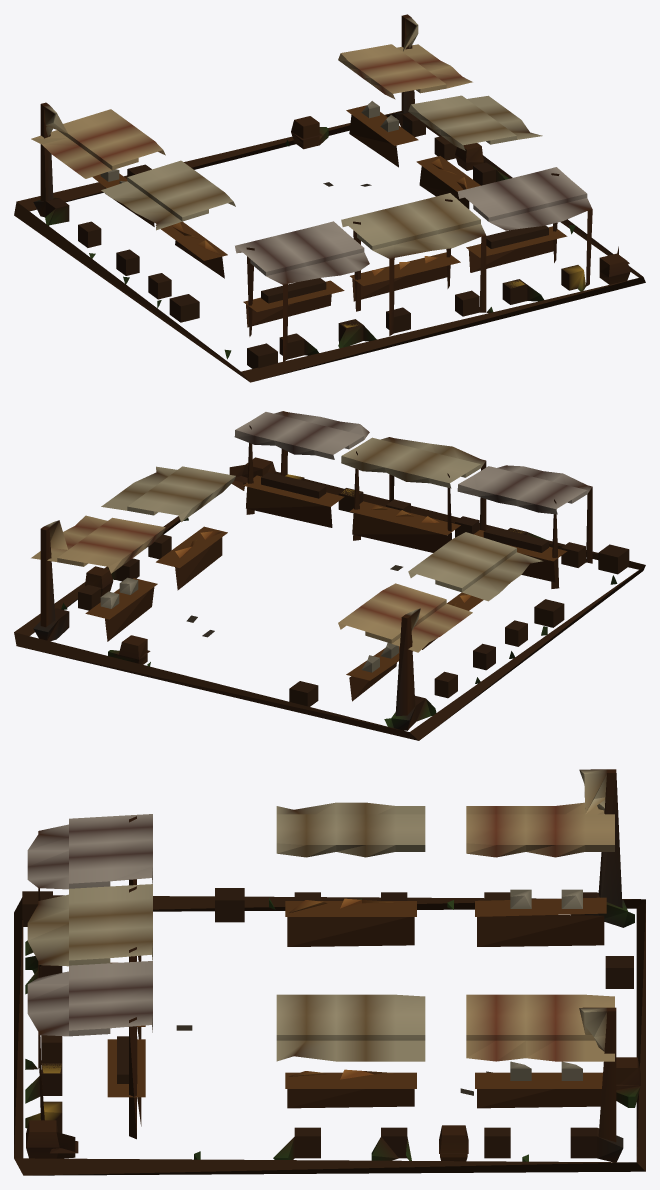
The model's file is Market.glb.
The picture shows the model from 3 angles, top to bottom: view 1: azimuth 30°, elevation 25°; view 2: azimuth 150°, elevation 25°; view 3: azimuth 270°, elevation 25°; orthographic projection. The views are drawn at different scales.
Parts seen in each view (by area): view 1: Market_P0_LOD1; view 2: Market_P0_LOD1; view 3: Market_P0_LOD1.
Boxes of the visible parts, bbox=[...] form: Market_P0_LOD1: bbox=[14, 14, 645, 382]; Market_P0_LOD1: bbox=[14, 411, 645, 740]; Market_P0_LOD1: bbox=[14, 769, 645, 1175].
Size of the model in its own units: 12 by 3.18 by 12.
